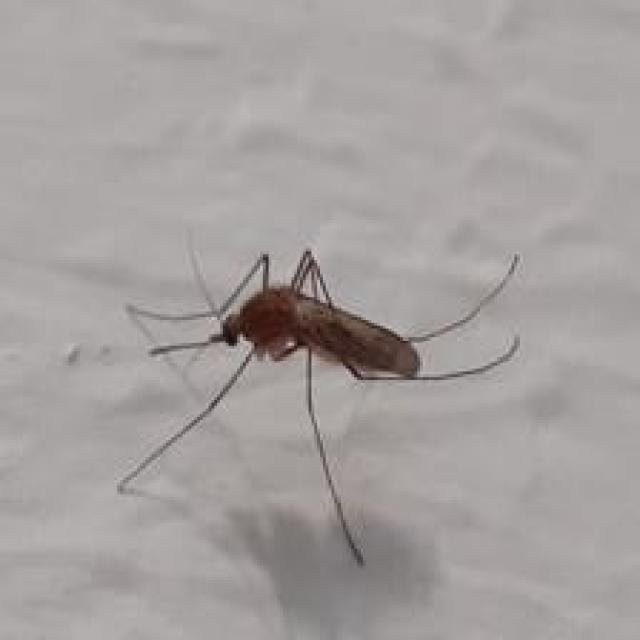Culex: (114, 240, 523, 569)
